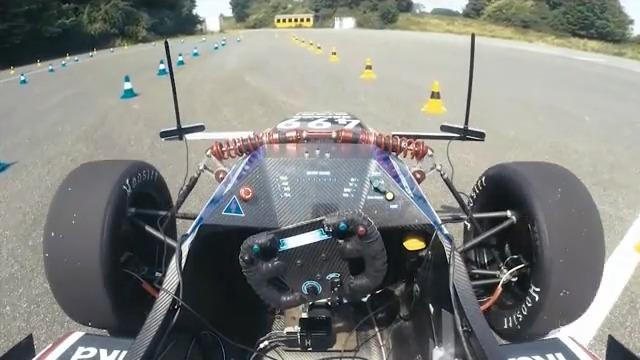blue_cone: (120, 75, 138, 101), (156, 59, 169, 76), (177, 52, 186, 67)
yellow_cone: (421, 79, 448, 114), (360, 56, 378, 78), (329, 47, 341, 62)
